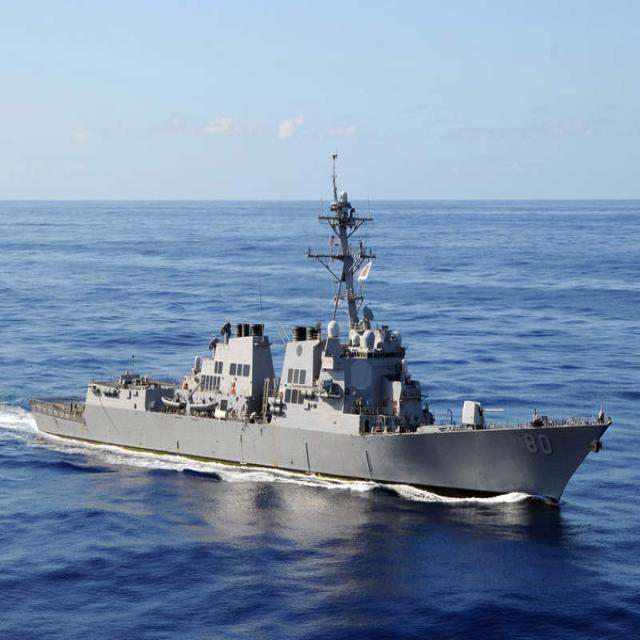navalvessels: (31, 142, 616, 518)
